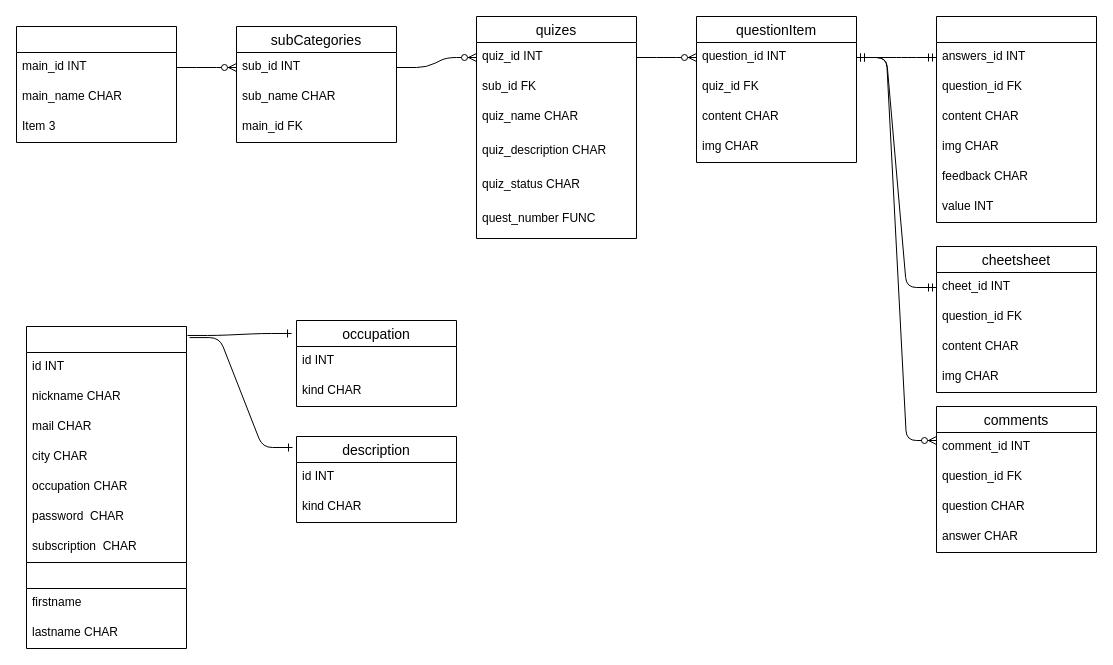
The diagram is 1113 pixels wide and 665 high, and some of its shapes have lost their labels. Each missing label, with the box of its shape:
add info users: (26, 562, 186, 648)
answerItem: (936, 16, 1096, 222)
mainCategories: (16, 26, 176, 142)
users: (26, 326, 186, 562)
